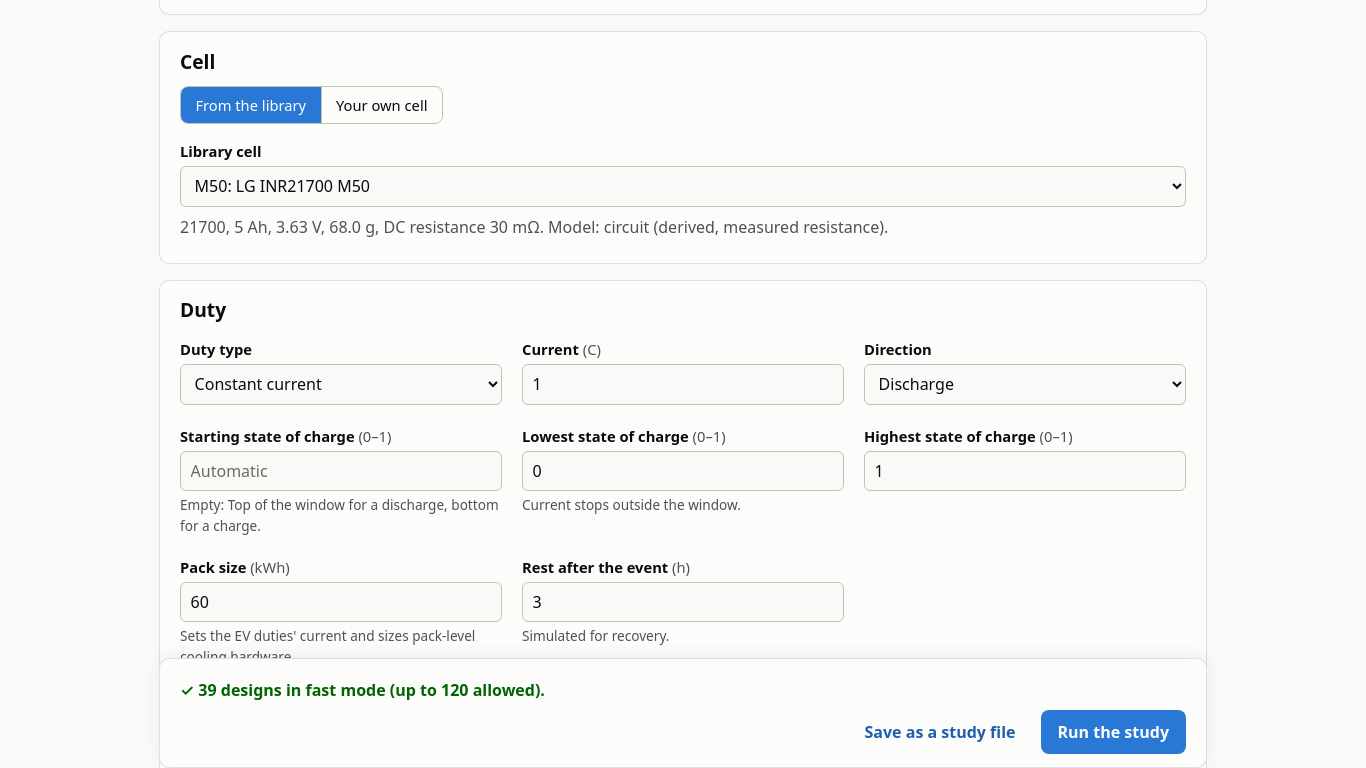
the setup screen › shows each duty type's own fields
This screenshot has width=1366, height=768.
(page scrolled)
Expected: the text "✓ 39 designs in fast mode (up to 120 allowed)." is shown, [180,680,545,702]
Expected: the field labelled "Current (C)" is shown, [522,364,844,405]
Select "WLTC city driving" in the dropdown labelled "Duty type": x=341, y=384 [180,364,502,405]
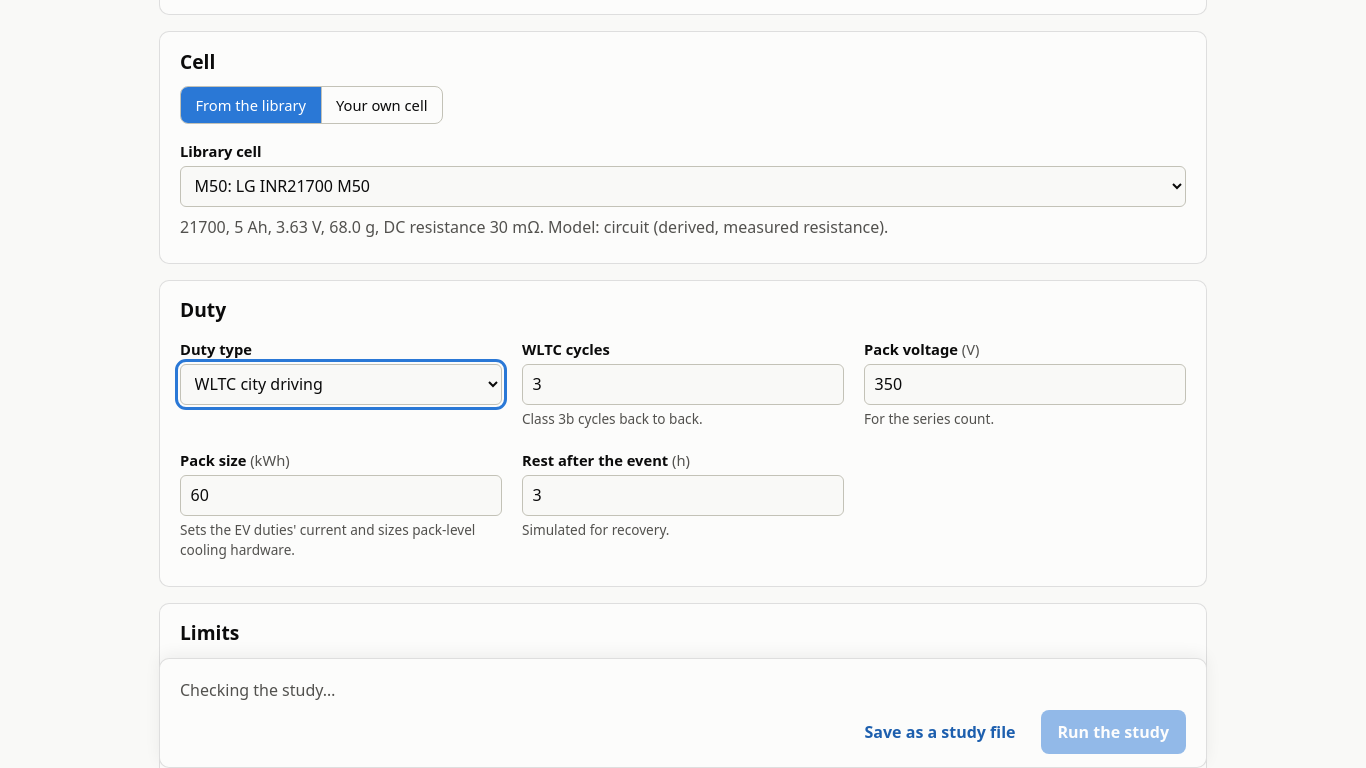
Expected: the field labelled "WLTC cycles" is shown, [522,364,844,405]
Select "Custom segments" in the dropdown labelled "Duty type": x=341, y=384 [180,364,502,405]
(page scrolled)
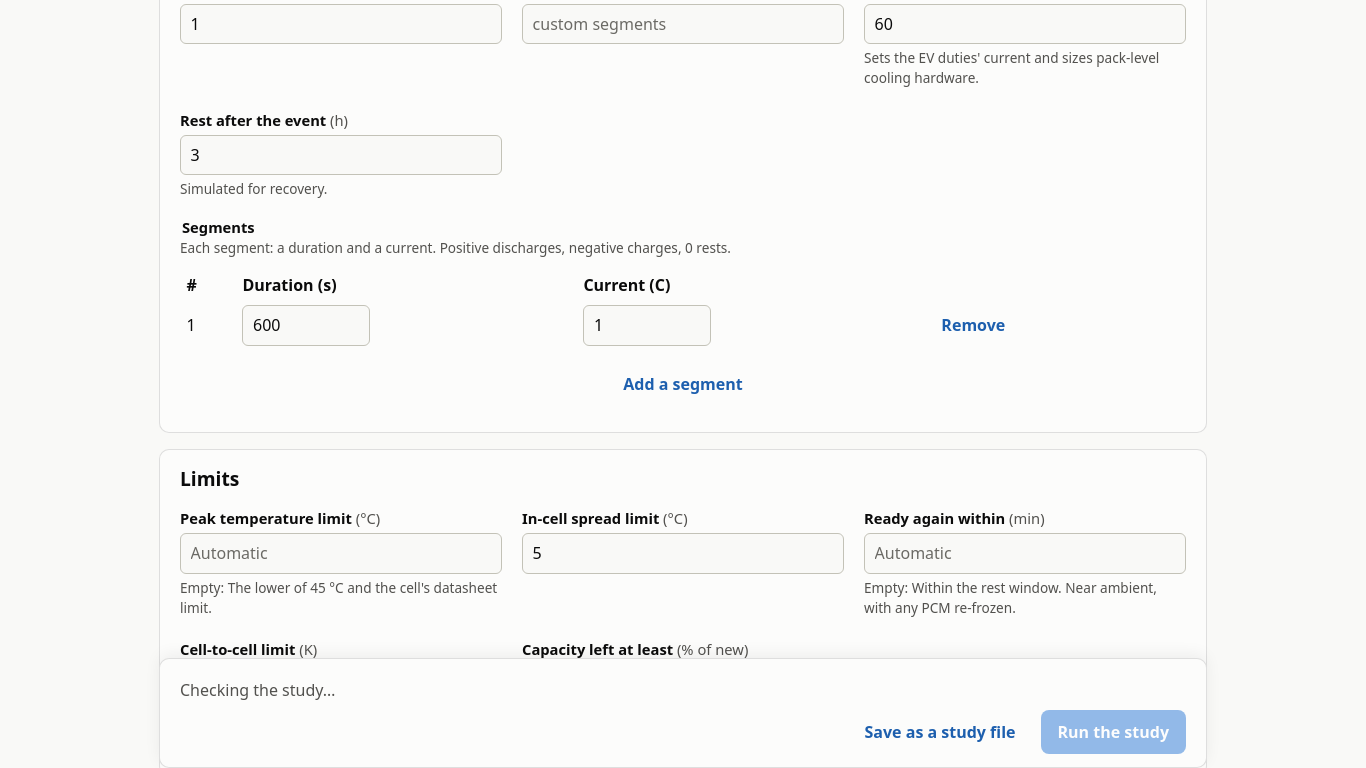
Expected: the button "Add a segment" is shown, [180,362,1186,406]
